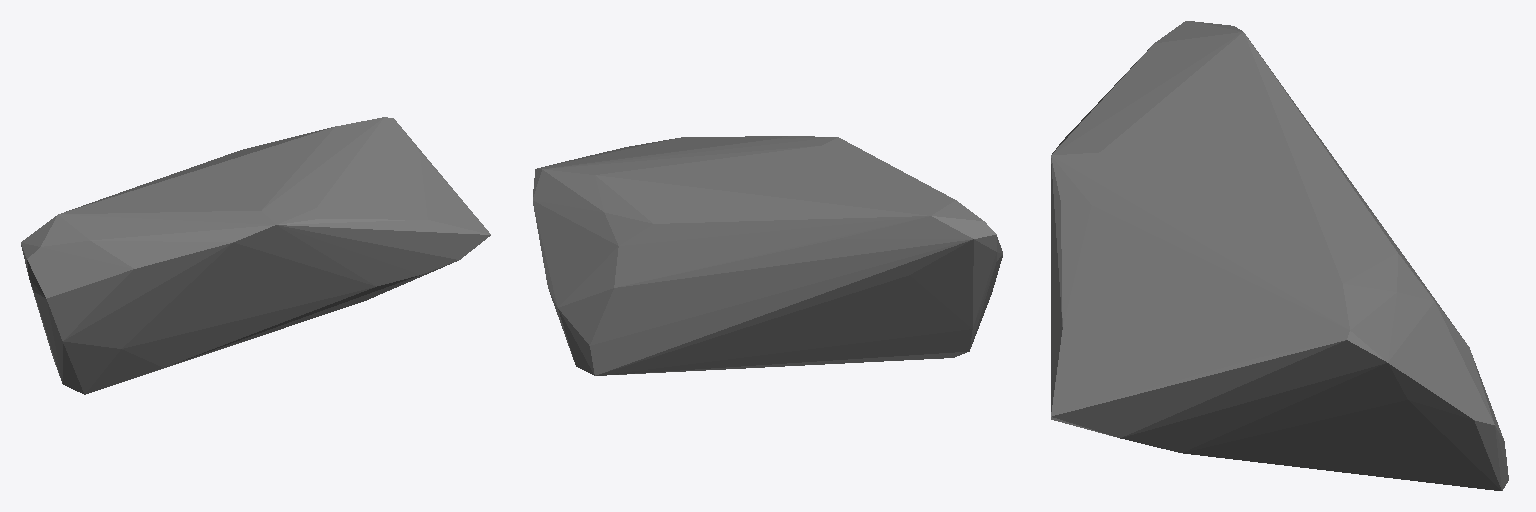
The robot description file, URDF, robot "40_391":
<?xml version="1.0"?>
<robot name="40_391">
  <link name="link">
    <contact>
      <lateral_friction value="0.6"/>
    </contact>
    <inertial>
      <origin xyz="0.0058119259805234635 -0.005573792996309536 0.0014322205253246097" rpy="0 0 0"/>
      <mass value = "0.34893469415991046"/>
      <inertia ixx="0.00011002551039310149" ixy="3.0832056263899476e-05" ixz="-6.319911115286992e-07" iyy="0.0002690083352803315" iyz="-1.2986702639962996e-05" izz="0.00030851893261504983" />
    </inertial>
    <visual name="visual">
      <geometry>
        <mesh filename="40_391.obj"/>
      </geometry>
      <material name="material">
        <color rgba="0.5115117178079258 0.5115117178079258 0.5115117178079258 1.0"/>
      </material>
    </visual>
    <collision name="collision">
      <geometry>
        <mesh filename="40_391.obj"/>
      </geometry>
    </collision>
  </link>
</robot>

--- What the picture shows (computed from the rendered views, not written in the file) ---
The picture shows the robot from 3 angles, left to right: view 1: azimuth 30°, elevation 25°; view 2: azimuth 150°, elevation 25°; view 3: azimuth 270°, elevation 25°; orthographic projection.
Model 40_391 with 1 links and 0 joints (none), rooted at link, posed all joints at 0.
Links seen in each view (by area): view 1: link; view 2: link; view 3: link.
Link boxes in pixels (x1,y1,x2,y2): link: (21, 117, 490, 394); link: (533, 136, 1002, 375); link: (1051, 21, 1508, 490).
Bounding box of the posed robot: 0.1133 × 0.0687 × 0.042 m (x, y, z).
Meshes: 1 distinct files referenced, 1 mesh visuals loaded (1 OBJ).
